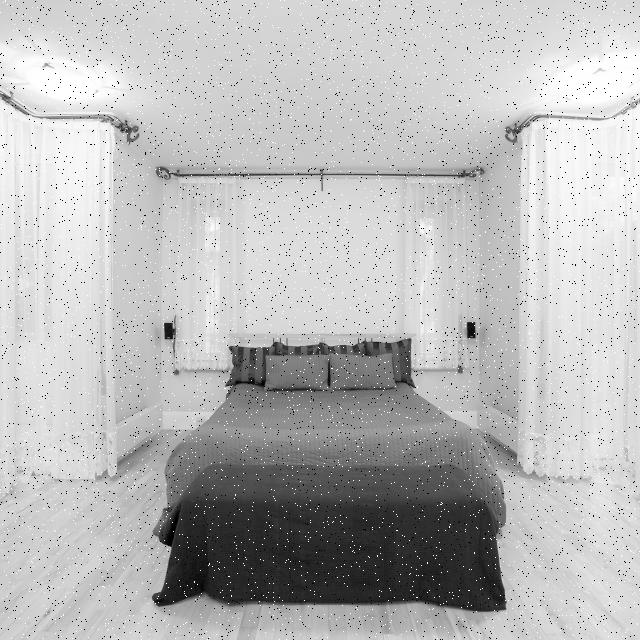bed: (168, 330, 498, 474)
